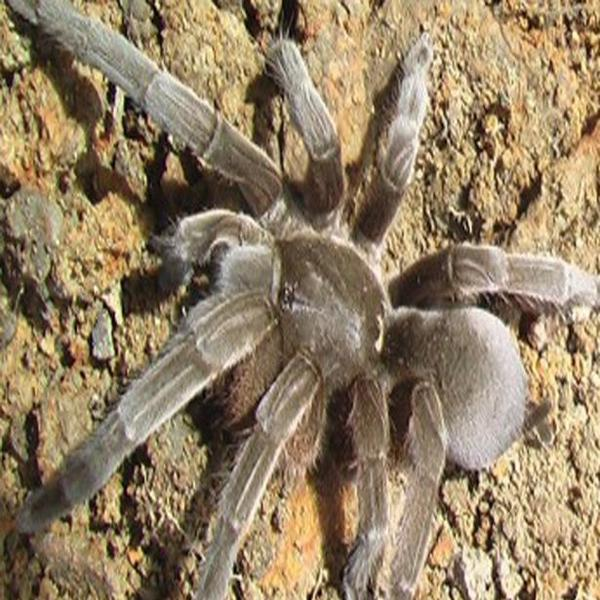Tarantula Spider: (60, 17, 568, 573)
